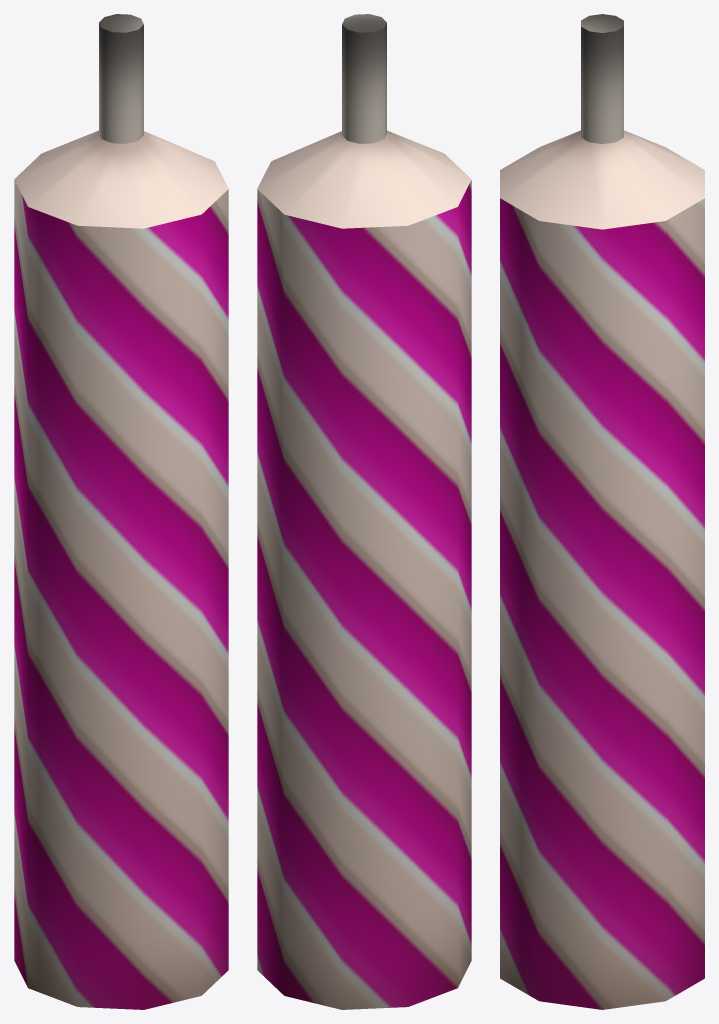
The model's file is Candle_Pink.fbx.
3 renders of one model, left to right at view 1: azimuth 30°, elevation 25°; view 2: azimuth 150°, elevation 25°; view 3: azimuth 270°, elevation 25°, orthographic.
Parts seen in each view (by area): view 1: Candle_Pink; view 2: Candle_Pink; view 3: Candle_Pink.
Boxes of the visible parts, bbox=[...] form: Candle_Pink: bbox=[14, 14, 228, 1009]; Candle_Pink: bbox=[257, 14, 471, 1009]; Candle_Pink: bbox=[500, 14, 704, 1009].
Size of the model in its own units: 4.86 by 23.5 by 4.62.
